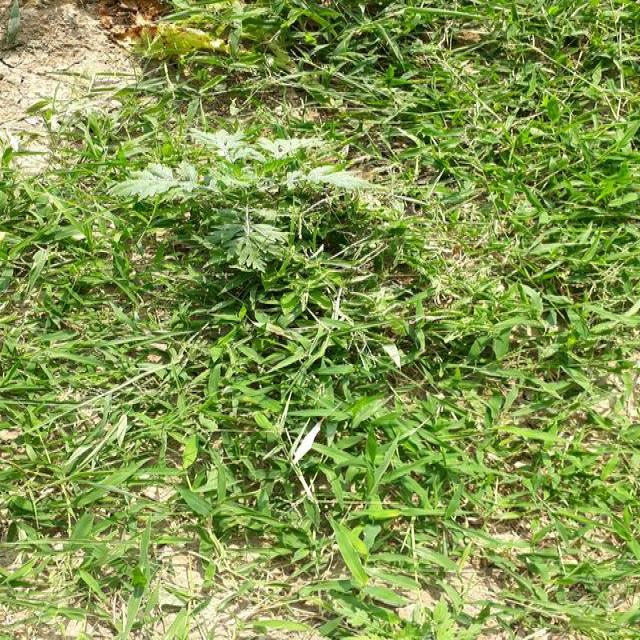weed: (10, 89, 640, 589)
